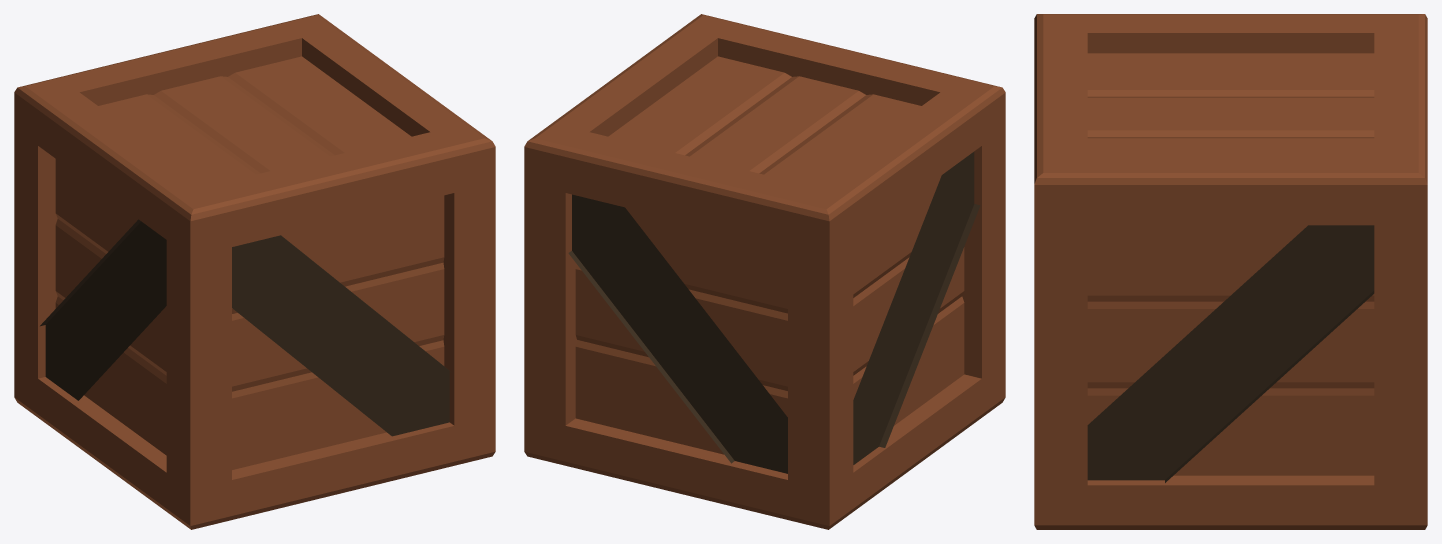
3 renders of one model, left to right at view 1: azimuth 30°, elevation 25°; view 2: azimuth 150°, elevation 25°; view 3: azimuth 270°, elevation 25°, orthographic. The views are drawn at different scales.
Parts seen in each view (by area): view 1: Box; view 2: Box; view 3: Box.
Boxes of the visible parts, x1,y1,x2,y2 form: Box: (14, 14, 495, 529); Box: (524, 14, 1005, 529); Box: (1034, 14, 1427, 529).
Bounding box in the file's own units: 178 × 178 × 178.
